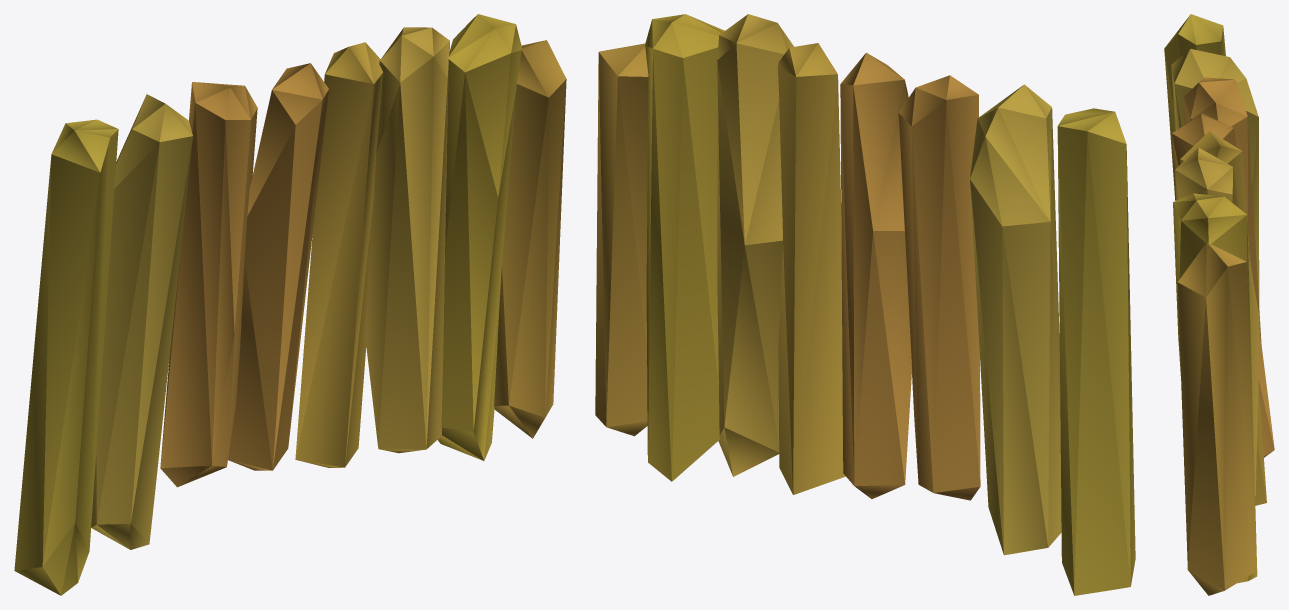
The model's file is fence.fbx.
The picture shows the model from 3 angles, left to right: view 1: azimuth 30°, elevation 25°; view 2: azimuth 150°, elevation 25°; view 3: azimuth 270°, elevation 25°; orthographic projection. The views are drawn at different scales.
Visible parts, largest first — view 1: fence; view 2: fence; view 3: fence.
Part boxes in pixels (left/top/right/bottom): fence: left=14, top=14, right=566, bottom=595; fence: left=595, top=14, right=1135, bottom=595; fence: left=1164, top=14, right=1274, bottom=595.
Bounding box in the file's own units: 5.5 × 4.69 × 1.11.
